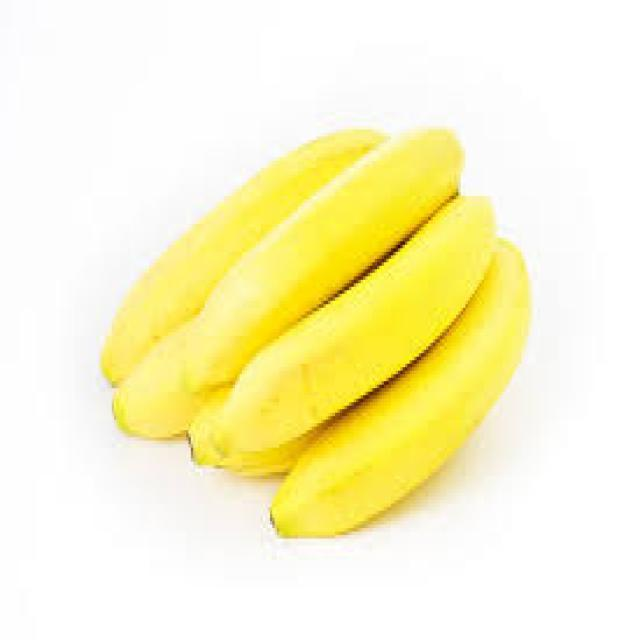Banana: (189, 199, 493, 467), (271, 240, 530, 534), (186, 130, 464, 392), (101, 130, 385, 384)
